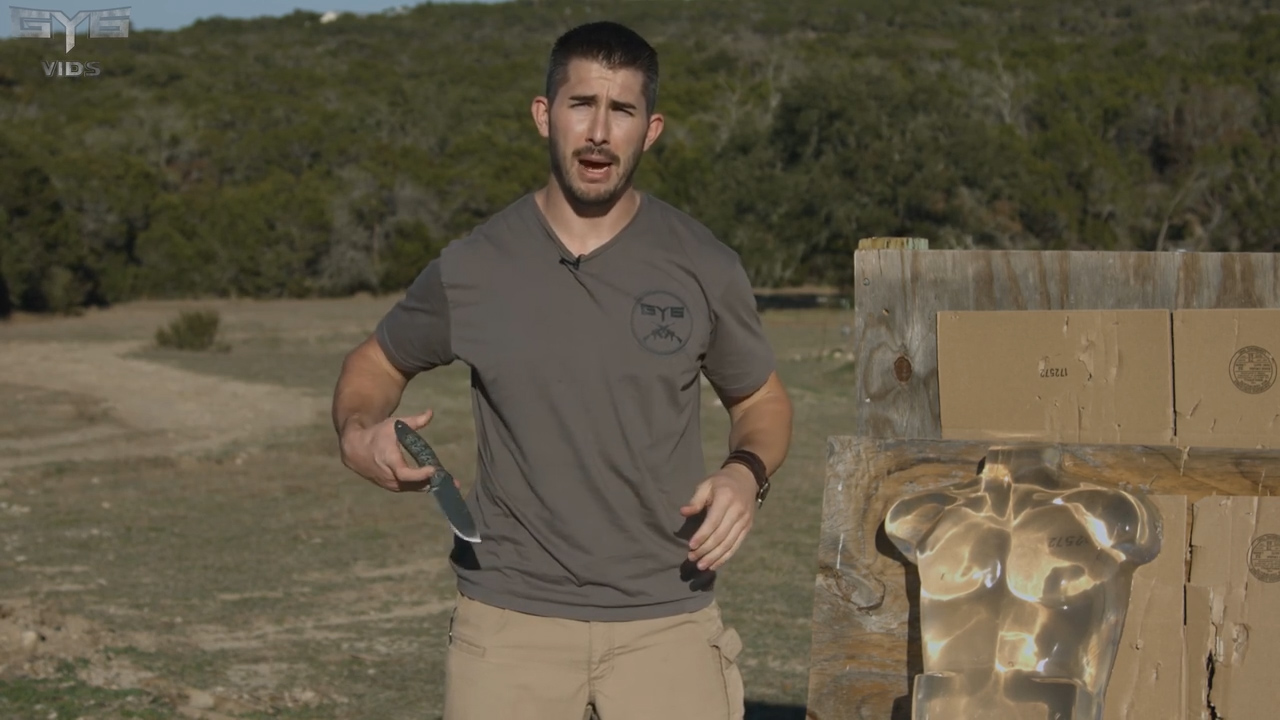knife: (380, 403, 489, 555)
